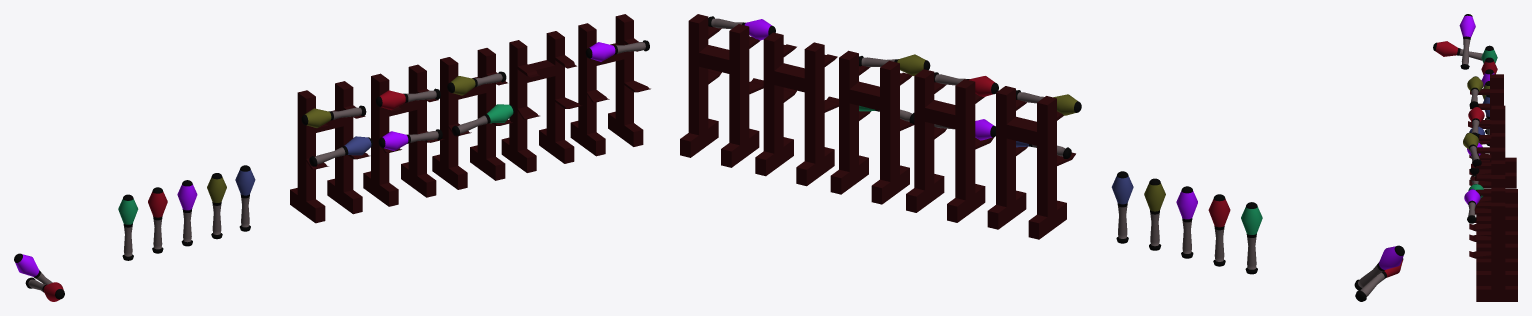
Rendered from JuggleStix.glb.
The picture shows the model from 3 angles, left to right: view 1: azimuth 30°, elevation 25°; view 2: azimuth 150°, elevation 25°; view 3: azimuth 270°, elevation 25°; orthographic projection. The views are drawn at different scales.
Parts seen in each view (by area): view 1: Rack Yellow-Blue, Rack Red-Purple, Rack-Yellow-Green, Rack-purple, Rack-Naked, Juggling Sticks Together, Juggling Stick Green, Juggling Stick Purple, Juggling Stick Blue, Juggling Stick Red, Juggling Stick Yellow; view 2: Rack Red-Purple, Rack-purple, Rack-Yellow-Green, Rack Yellow-Blue, Rack-Naked, Juggling Sticks Together, Juggling Stick Purple, Juggling Stick Red, Juggling Stick Yellow, Juggling Stick Blue, Juggling Stick Green; view 3: Rack-purple, Rack-Yellow-Green, Rack-Naked, Rack Red-Purple, Rack Yellow-Blue, Juggling Sticks Together, Juggling Stick Green, Juggling Stick Red, Juggling Stick Purple, Juggling Stick Blue, Juggling Stick Yellow.
Part boxes in pixels (<box>): Rack Yellow-Blue: <box>290,81,372,223</box>; Rack Red-Purple: <box>363,64,444,206</box>; Rack-Yellow-Green: <box>432,48,514,189</box>; Rack-purple: <box>570,14,650,156</box>; Rack-Naked: <box>501,31,582,172</box>; Juggling Sticks Together: <box>14,253,64,301</box>; Juggling Stick Green: <box>118,194,138,260</box>; Juggling Stick Purple: <box>177,180,197,246</box>; Juggling Stick Blue: <box>235,165,255,231</box>; Juggling Stick Red: <box>148,187,167,253</box>; Juggling Stick Yellow: <box>207,173,226,239</box>; Rack Red-Purple: <box>906,69,998,222</box>; Rack-purple: <box>680,14,775,167</box>; Rack-Yellow-Green: <box>830,50,930,204</box>; Rack Yellow-Blue: <box>987,86,1081,239</box>; Rack-Naked: <box>755,32,838,186</box>; Juggling Sticks Together: <box>1354,245,1404,301</box>; Juggling Stick Purple: <box>1176,186,1197,258</box>; Juggling Stick Red: <box>1208,194,1230,266</box>; Juggling Stick Yellow: <box>1144,178,1165,250</box>; Juggling Stick Blue: <box>1111,171,1133,243</box>; Juggling Stick Green: <box>1241,202,1262,274</box>; Rack-purple: <box>1464,187,1517,301</box>; Rack-Yellow-Green: <box>1463,132,1517,243</box>; Rack-Naked: <box>1469,160,1517,270</box>; Rack Red-Purple: <box>1467,105,1517,216</box>; Rack Yellow-Blue: <box>1467,74,1516,188</box>; Juggling Sticks Together: <box>1433,14,1482,69</box>; Juggling Stick Green: <box>1481,45,1497,63</box>; Juggling Stick Red: <box>1481,57,1497,74</box>; Juggling Stick Purple: <box>1481,69,1494,119</box>; Juggling Stick Blue: <box>1482,95,1489,146</box>; Juggling Stick Yellow: <box>1482,81,1489,134</box>.
Size of the model in its own units: 64.65 by 11.93 by 9.16.
Materials: 2 (2 with a texture image).
